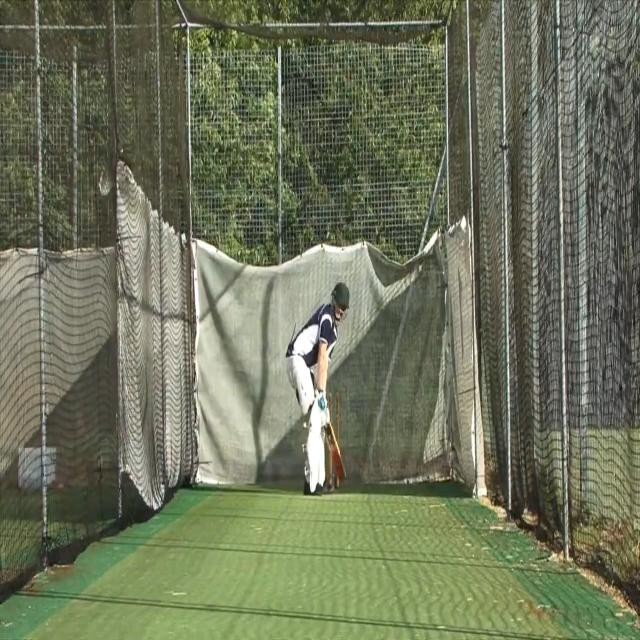batsman: (284, 280, 352, 499)
